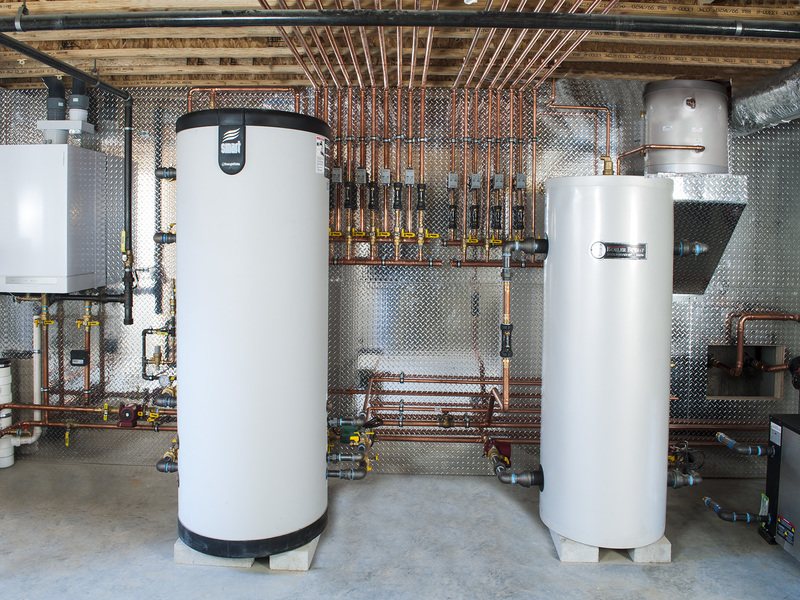valve: (113, 226, 140, 273), (28, 309, 59, 329), (73, 317, 101, 331), (485, 231, 508, 248), (62, 423, 75, 453), (394, 231, 425, 243), (414, 230, 444, 242), (98, 398, 112, 423), (372, 223, 395, 238), (347, 225, 368, 240), (322, 228, 344, 239), (459, 234, 476, 244)
